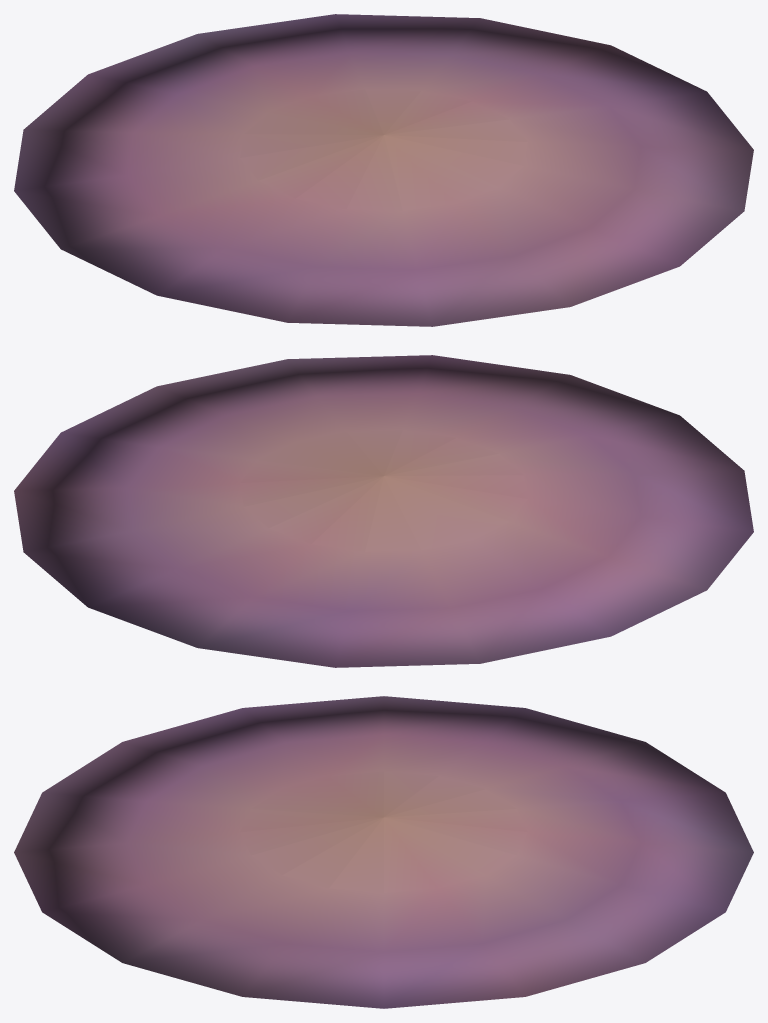
File: space-galaxies-galaxy_v20.glb
3 views of the same model, one above another, from view 1: azimuth 30°, elevation 25°; view 2: azimuth 150°, elevation 25°; view 3: azimuth 270°, elevation 25° (orthographic).
Parts seen in each view (by area): view 1: Galaxy_v20; view 2: Galaxy_v20; view 3: Galaxy_v20.
Part boxes in pixels (x1,y1,x2,y2): Galaxy_v20: [14, 14, 753, 326]; Galaxy_v20: [14, 355, 753, 667]; Galaxy_v20: [14, 696, 753, 1008].
Size of the model in its own units: 0.5 by 0.0436 by 0.5.
